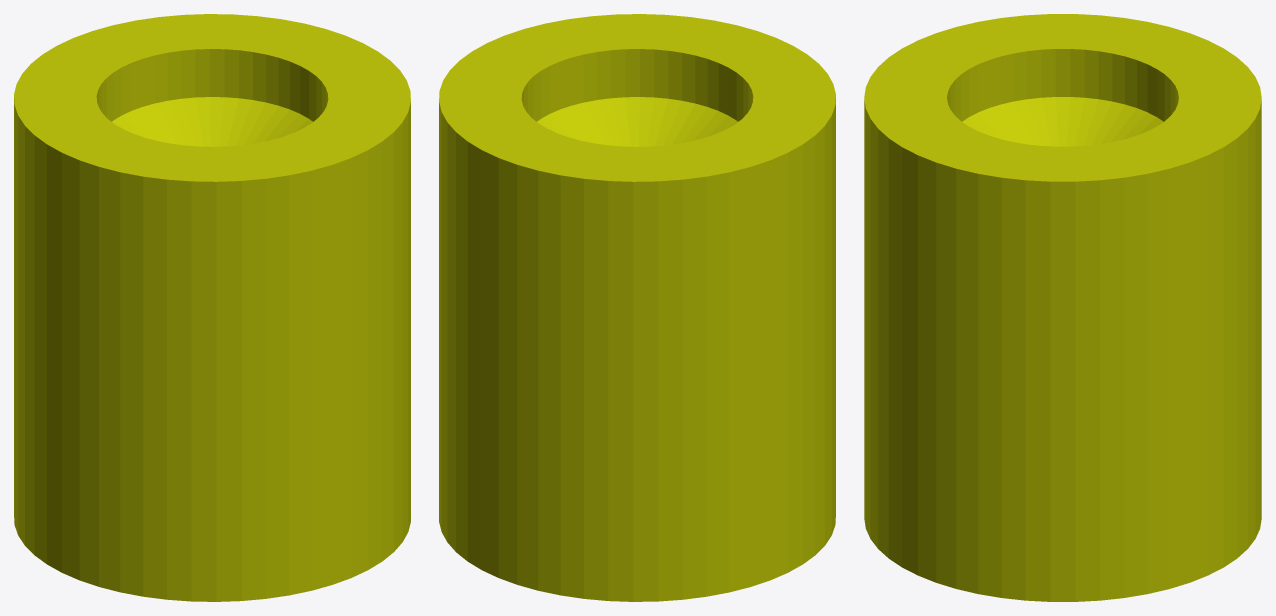
The model's file is pied_jaune.dae.
The picture shows the model from 3 angles, left to right: view 1: azimuth 30°, elevation 25°; view 2: azimuth 150°, elevation 25°; view 3: azimuth 270°, elevation 25°; orthographic projection.
Parts seen in each view (by area): view 1: Circle_001; view 2: Circle_001; view 3: Circle_001.
Boxes of the visible parts, bbox=[...] form: Circle_001: bbox=[14, 14, 410, 601]; Circle_001: bbox=[439, 14, 835, 601]; Circle_001: bbox=[864, 14, 1261, 601].
Bounding box in the file's own units: 0.0599 × 0.06 × 0.07.
